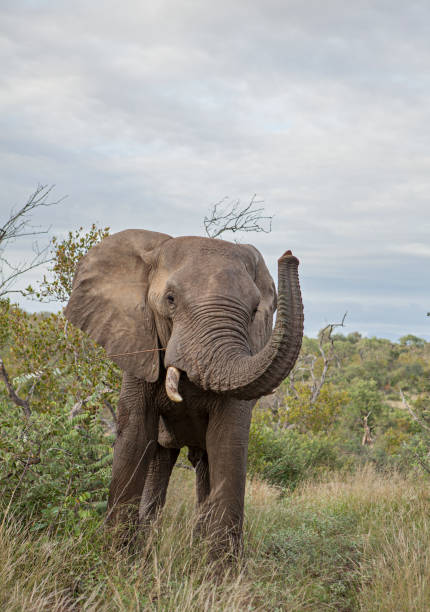africanelephant: (131, 243, 289, 410)
